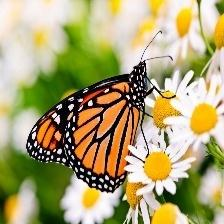butterfly: (28, 62, 161, 193)
